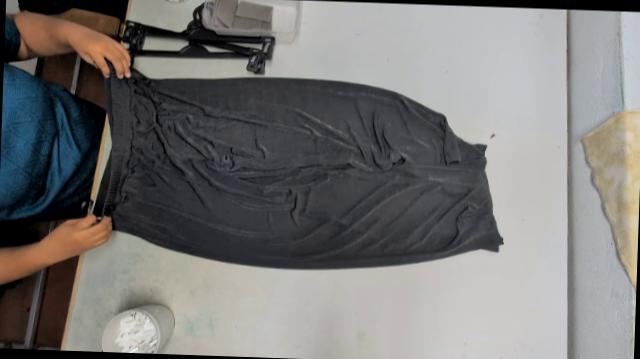new-garment: (103, 69, 502, 268)
